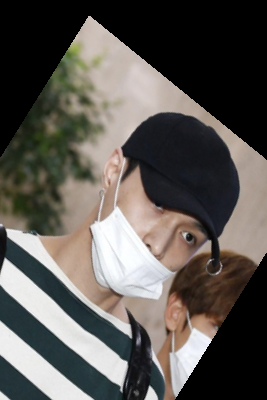mask_weared_incorrect: (70, 90, 255, 310)
